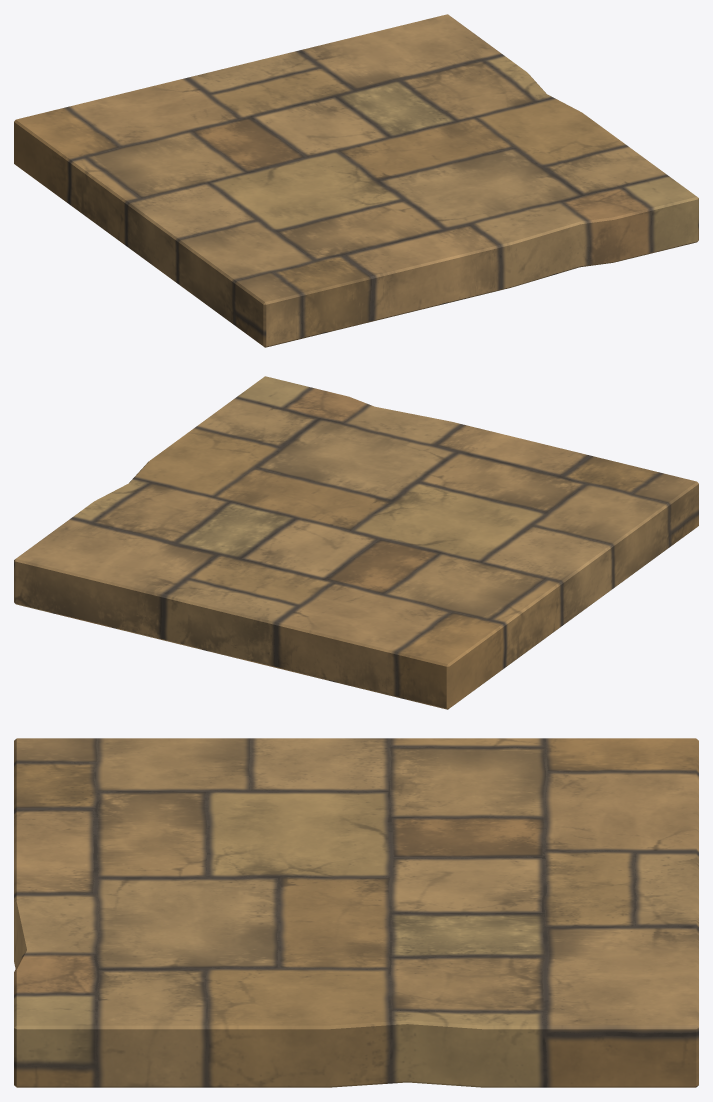
Rendered from AN_PLP.fbx.
3 renders of one model, top to bottom at view 1: azimuth 30°, elevation 25°; view 2: azimuth 150°, elevation 25°; view 3: azimuth 270°, elevation 25°, orthographic. The views are drawn at different scales.
Visible parts, largest first — view 1: AN_PLP; view 2: AN_PLP; view 3: AN_PLP.
Boxes of the visible parts, left/top/right/bottom form: AN_PLP: left=14, top=14, right=698, bottom=347; AN_PLP: left=14, top=376, right=698, bottom=709; AN_PLP: left=14, top=738, right=698, bottom=1087.
Size of the model in its own units: 5 by 0.5 by 5.
1 material, 1 textured.
